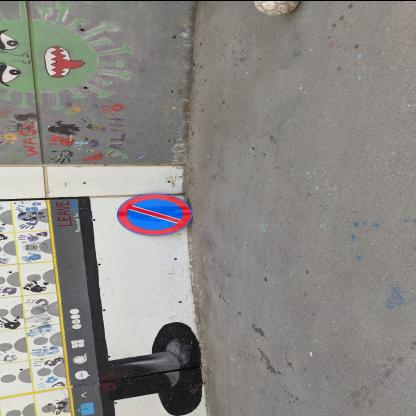No Waiting: (118, 194, 194, 237)
